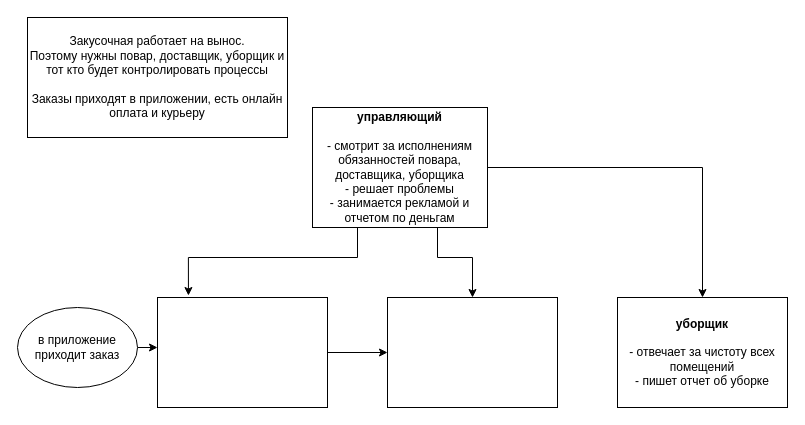
Some shapes in this 805 by 425 pixel diagram are drawn without their labels. Here are the shapes that lost their labels. From the top down, the centre of each, then its label:
the point at 242,352: повар - закупает продукты - готовит - отчитывается
the point at 472,352: доставщик - доставляет - принимает оплату - отчитывается
